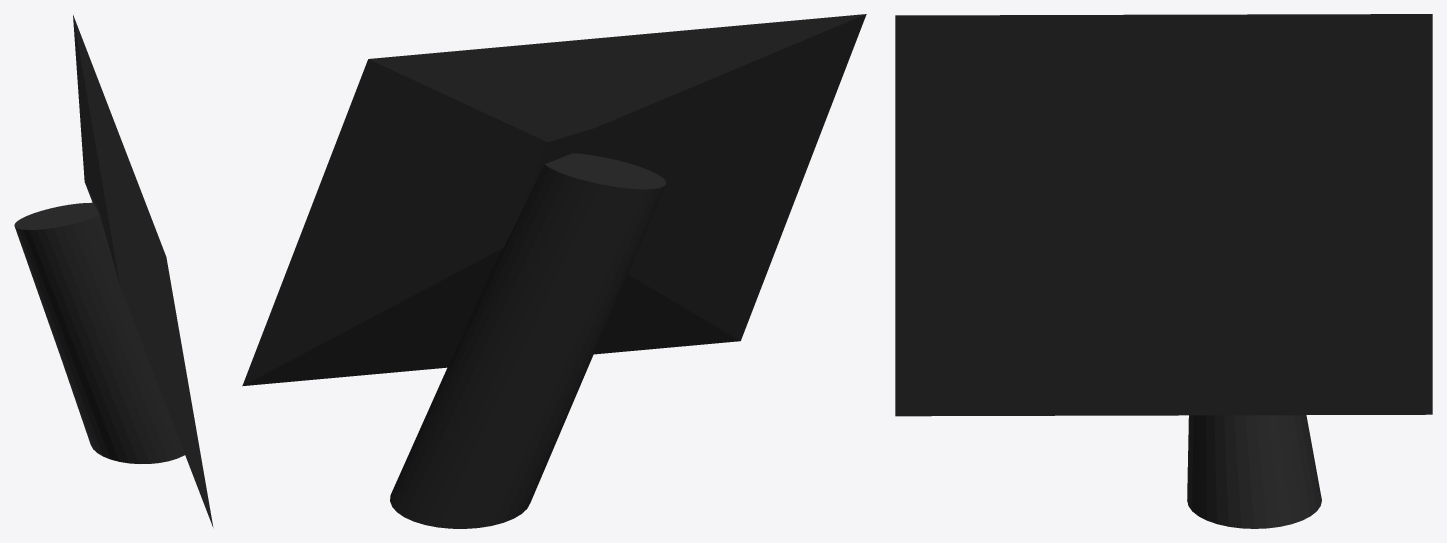
File: GarbageMonitor.glb
The picture shows the model from 3 angles, left to right: view 1: azimuth 30°, elevation 25°; view 2: azimuth 150°, elevation 25°; view 3: azimuth 270°, elevation 25°; orthographic projection. The views are drawn at different scales.
Visible parts, largest first — view 1: Cube; view 2: Cube; view 3: Cube.
Boxes of the visible parts, x1,y1,x2,y2 form: Cube: (14,15,213,527); Cube: (242,14,866,528); Cube: (895,14,1432,528).
Size of the model in its own units: 5.62 by 7.95 by 7.96.
Materials: 1 (1 with a texture image).
